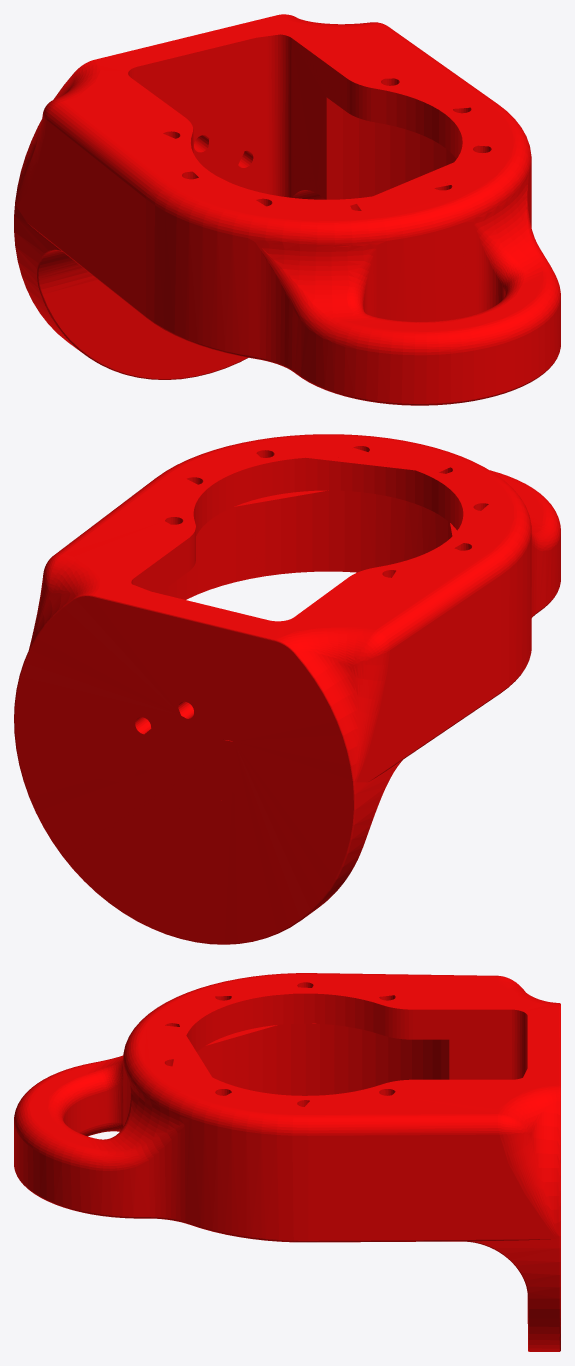
Rendered from right_arm_1_shoulder_inner_1.glb.
3 views of the same model, one above another, from view 1: azimuth 30°, elevation 25°; view 2: azimuth 150°, elevation 25°; view 3: azimuth 270°, elevation 25° (orthographic). The views are drawn at different scales.
Parts seen in each view (by area): view 1: right_arm_1_shoulder_inner_1.obj; view 2: right_arm_1_shoulder_inner_1.obj; view 3: right_arm_1_shoulder_inner_1.obj.
Part boxes in pixels (<box>): right_arm_1_shoulder_inner_1.obj: <box>14,14,560,405</box>; right_arm_1_shoulder_inner_1.obj: <box>14,434,560,944</box>; right_arm_1_shoulder_inner_1.obj: <box>14,973,560,1351</box>.
Bounding box in the file's own units: 0.11 × 0.0963 × 0.1649.
